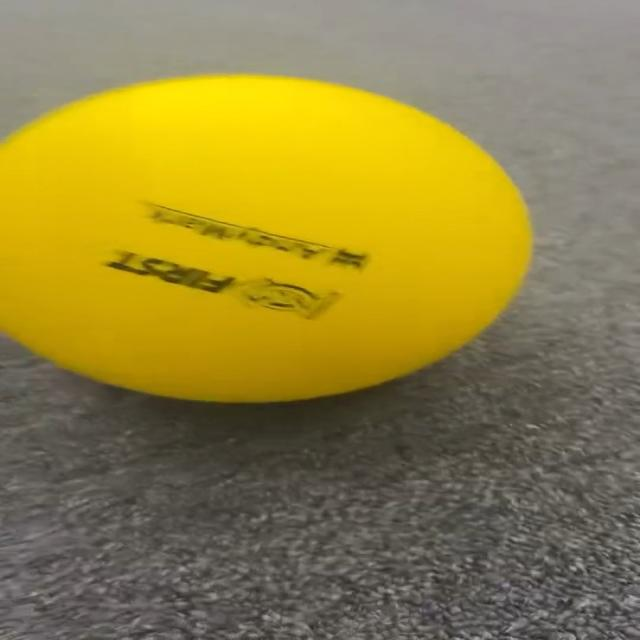Fuels: (3, 76, 530, 399)
